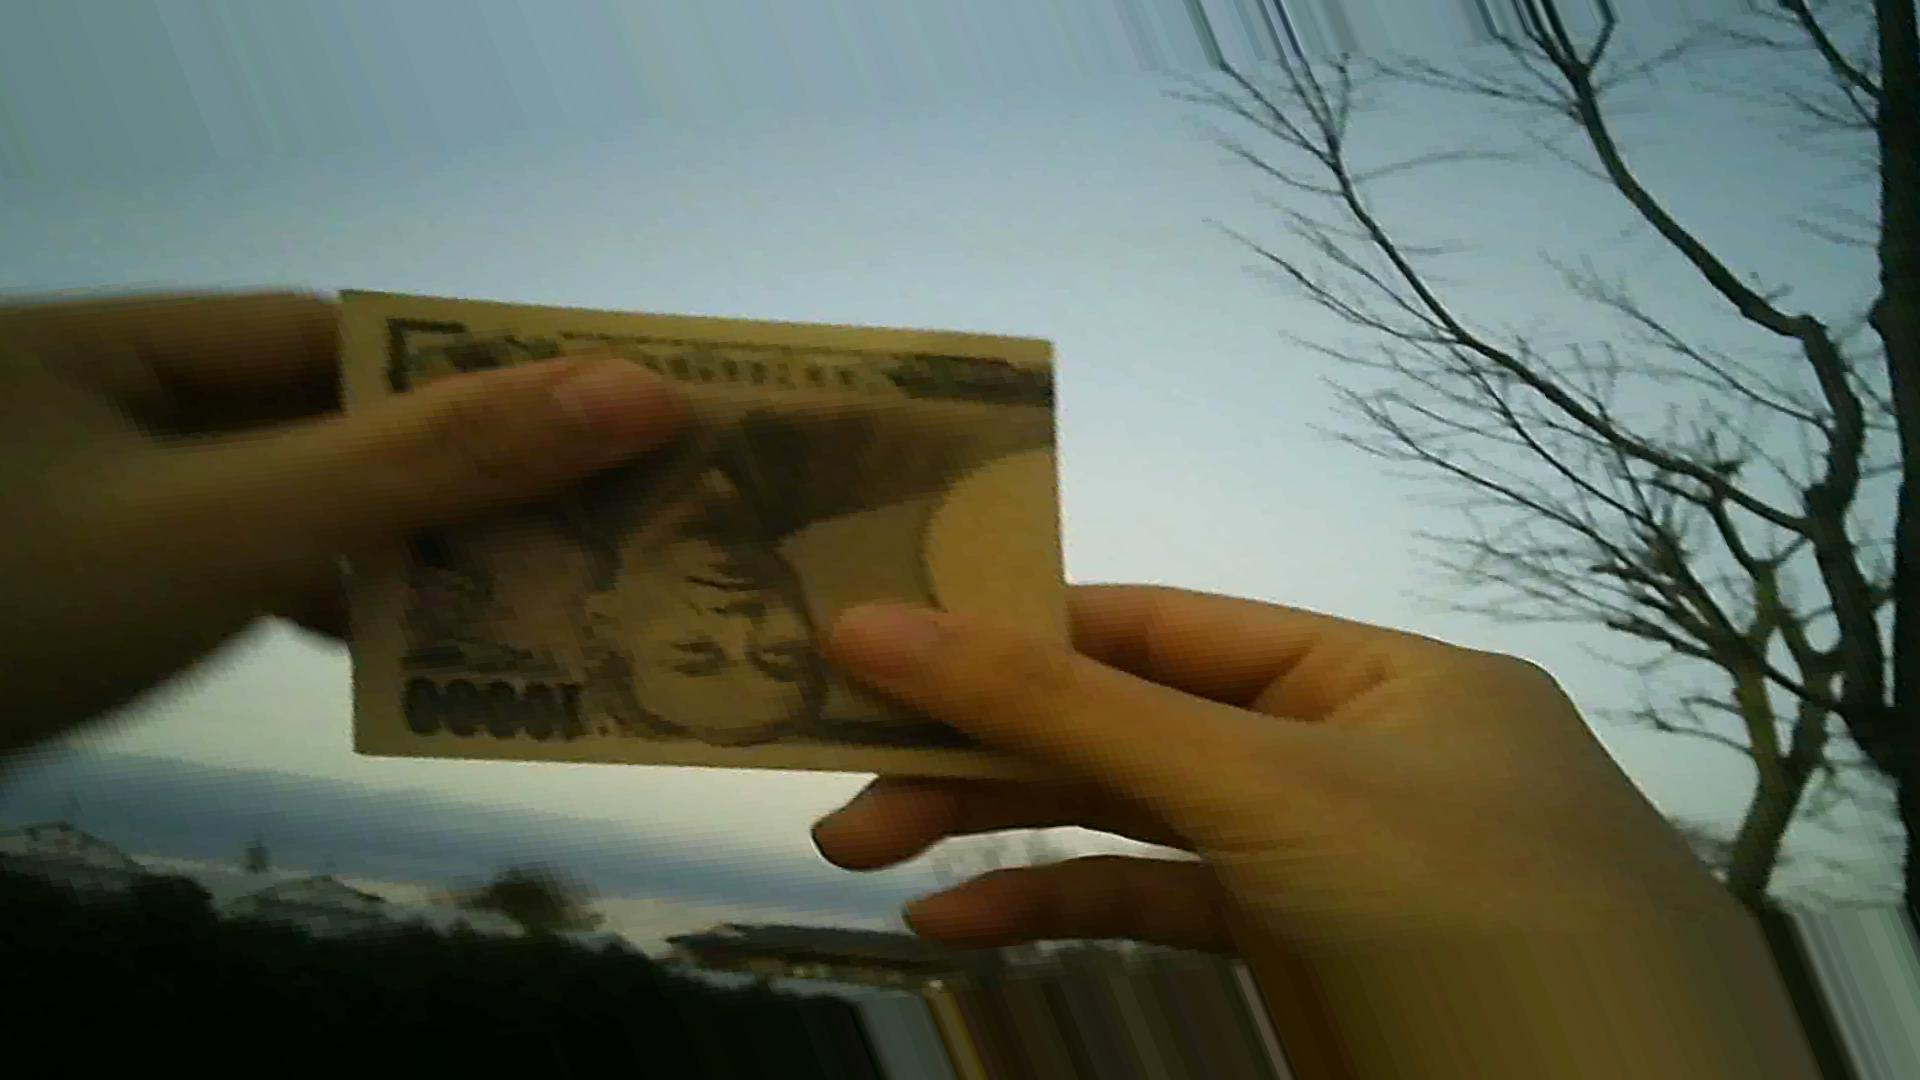10,000 Yen: (327, 274, 1095, 806)
